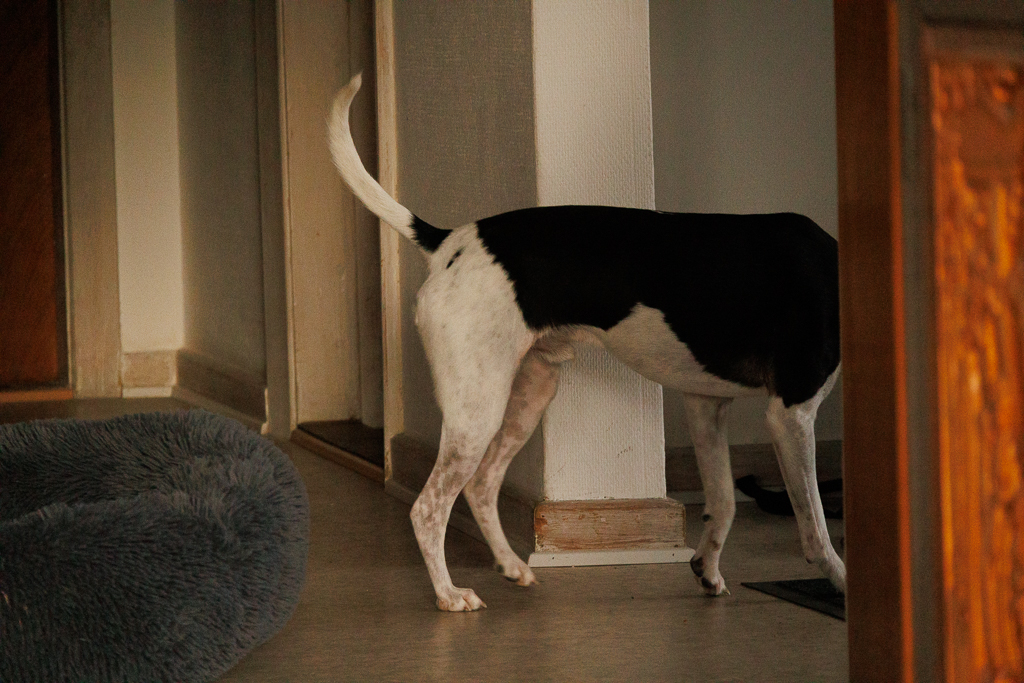Dog: (320, 63, 886, 623)
